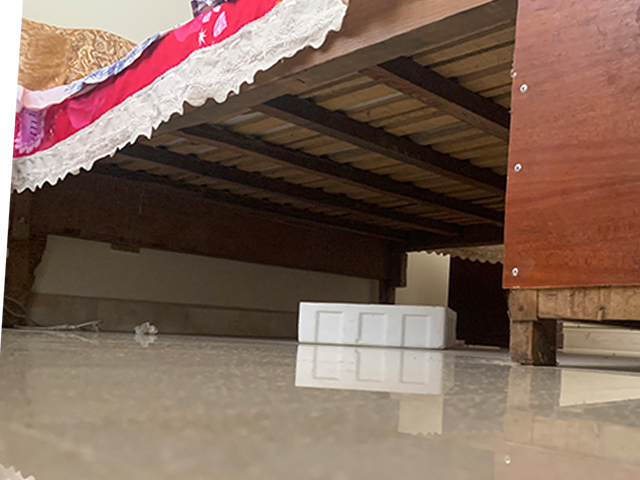bed: (3, 1, 640, 367)
wire: (4, 295, 102, 334)
